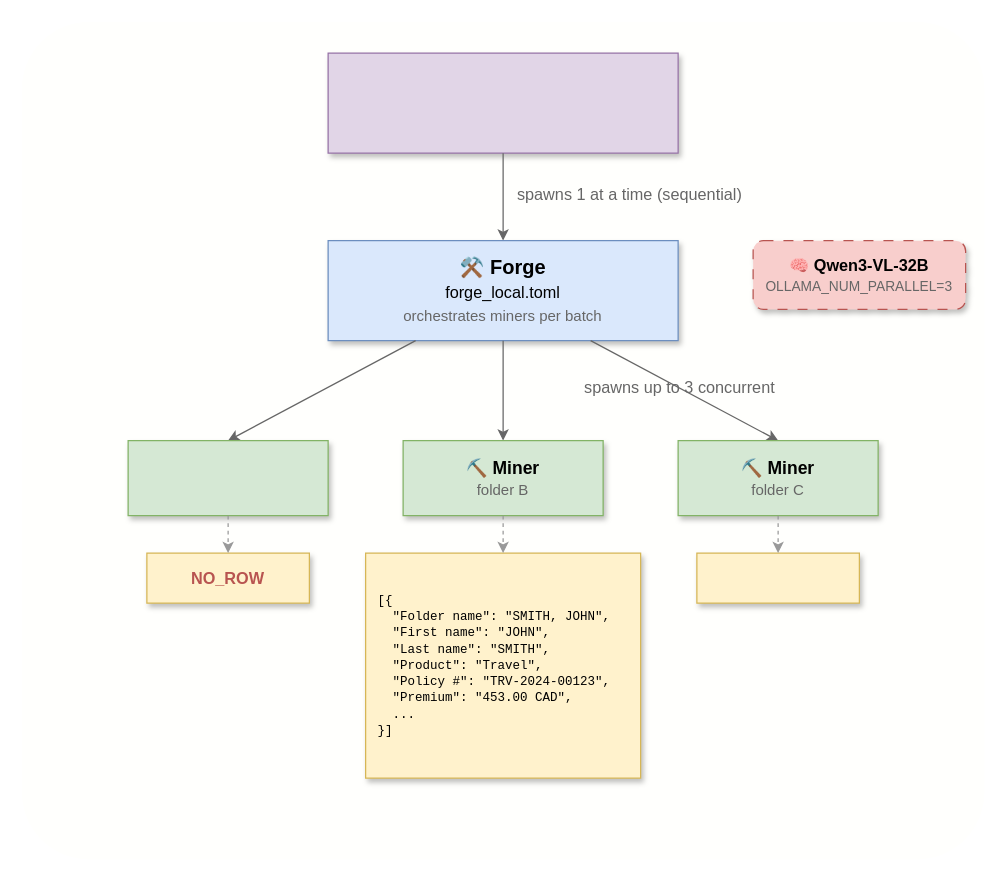
Some shapes in this 1005 by 880 pixel diagram are drawn without their labels. Each missing label, with the centre of its shape:
"JSON / NO_ROW" goes at point (779, 579).
"⛏️ Miner folder A" goes at point (229, 479).
"💻 Codex CLI Main_Prompt.md picks next 4 batches from git log" goes at point (504, 104).
